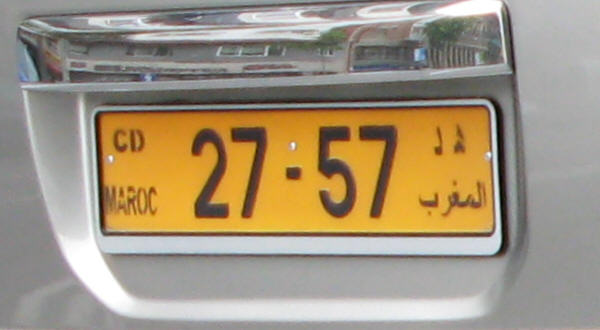number_plate: (92, 106, 497, 237)
